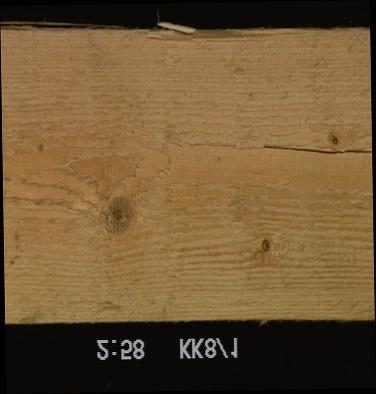dry_knot: (258, 237, 270, 253), (329, 135, 339, 146)
sound_knot: (103, 194, 132, 236)
split: (261, 144, 372, 155)
wave: (143, 18, 317, 41)
